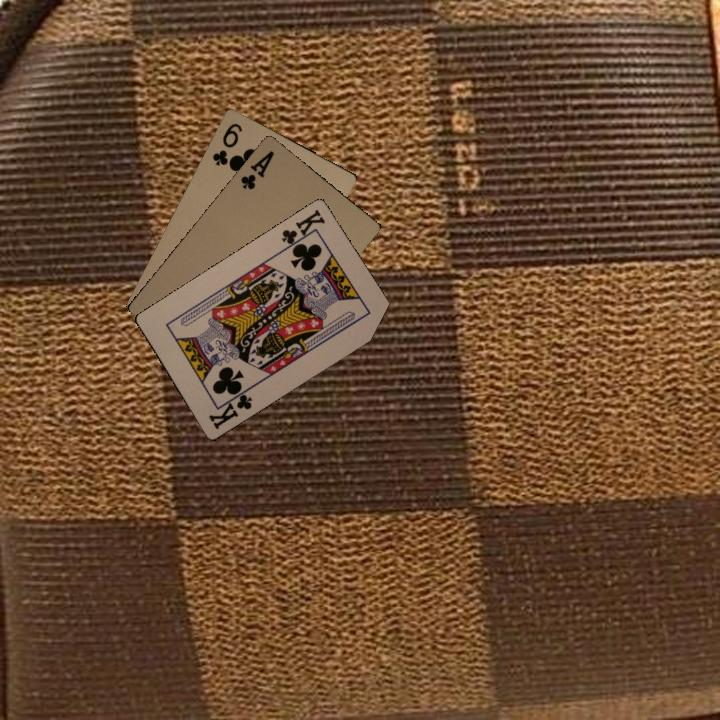6c: (208, 119, 245, 169)
Ac: (237, 146, 277, 192)
Kc: (277, 205, 328, 253), (205, 385, 255, 432)
